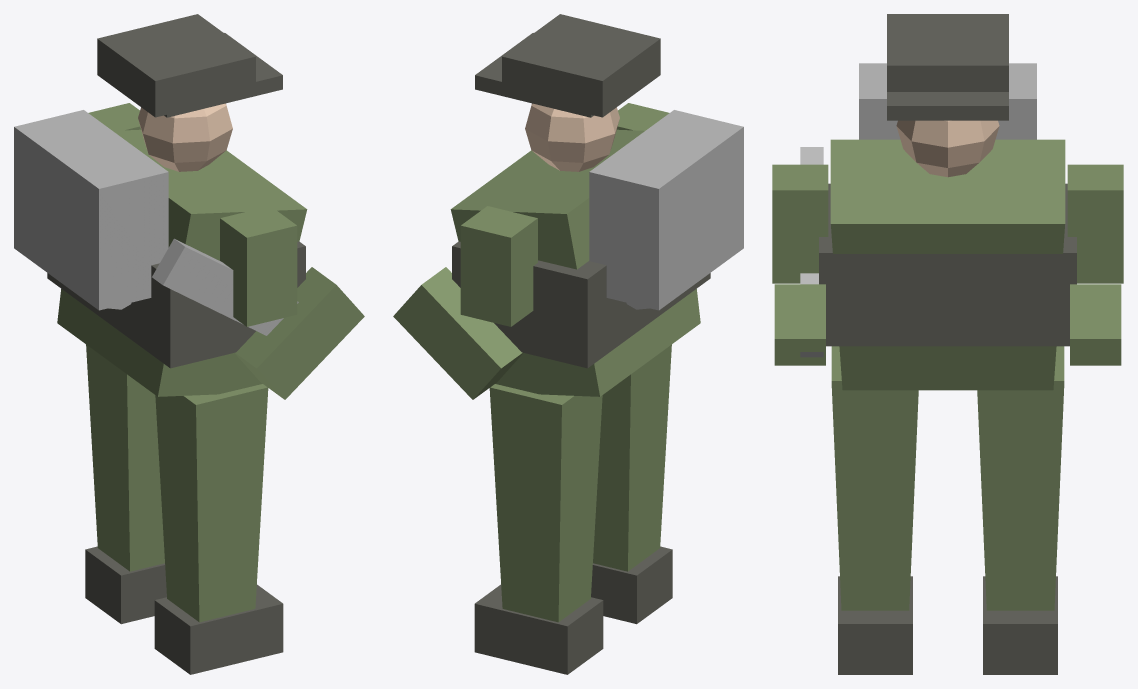
Rendered from unit_mg.glb.
The picture shows the model from 3 angles, left to right: view 1: azimuth 30°, elevation 25°; view 2: azimuth 150°, elevation 25°; view 3: azimuth 270°, elevation 25°; orthographic projection. The views are drawn at different scales.
Parts seen in each view (by area): view 1: MachineGunner, trim_upper_MachineGunner, accent_upper_MachineGunner, upper_MachineGunner, accent_MachineGunner, skin_upper_MachineGunner; view 2: MachineGunner, trim_upper_MachineGunner, accent_upper_MachineGunner, upper_MachineGunner, accent_MachineGunner, skin_upper_MachineGunner; view 3: MachineGunner, accent_upper_MachineGunner, upper_MachineGunner, accent_MachineGunner, trim_upper_MachineGunner, skin_upper_MachineGunner.
Boxes of the visible parts, x1=… form: MachineGunner: x1=57, y1=129, x2=307, y2=622; trim_upper_MachineGunner: x1=14, y1=110, x2=298, y2=335; accent_upper_MachineGunner: x1=47, y1=14, x2=305, y2=368; upper_MachineGunner: x1=88, y1=103, x2=364, y2=399; accent_MachineGunner: x1=85, y1=546, x2=283, y2=674; skin_upper_MachineGunner: x1=138, y1=103, x2=232, y2=171; MachineGunner: x1=450, y1=129, x2=700, y2=622; trim_upper_MachineGunner: x1=589, y1=110, x2=743, y2=310; accent_upper_MachineGunner: x1=452, y1=14, x2=710, y2=368; upper_MachineGunner: x1=393, y1=103, x2=669, y2=399; accent_MachineGunner: x1=474, y1=546, x2=672, y2=674; skin_upper_MachineGunner: x1=525, y1=103, x2=619, y2=171; MachineGunner: x1=830, y1=139, x2=1065, y2=610; accent_upper_MachineGunner: x1=819, y1=14, x2=1076, y2=346; upper_MachineGunner: x1=772, y1=164, x2=1123, y2=365; accent_MachineGunner: x1=838, y1=576, x2=1057, y2=674; trim_upper_MachineGunner: x1=800, y1=63, x2=1036, y2=357; skin_upper_MachineGunner: x1=896, y1=120, x2=999, y2=177.
Size of the model in its own units: 0.5826 by 1.43 by 0.75.
